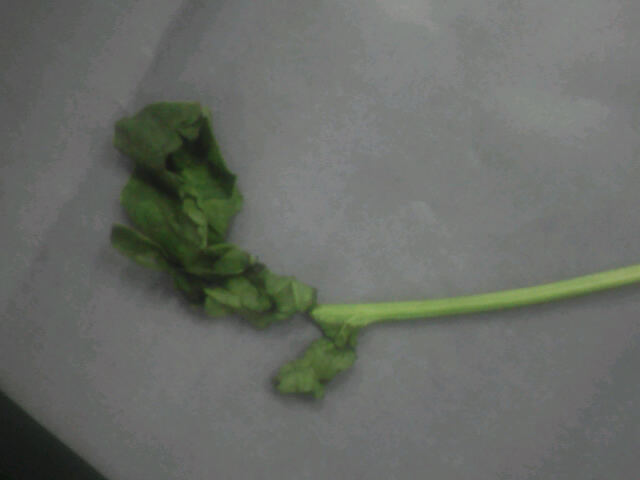yellow: (110, 86, 373, 417)
